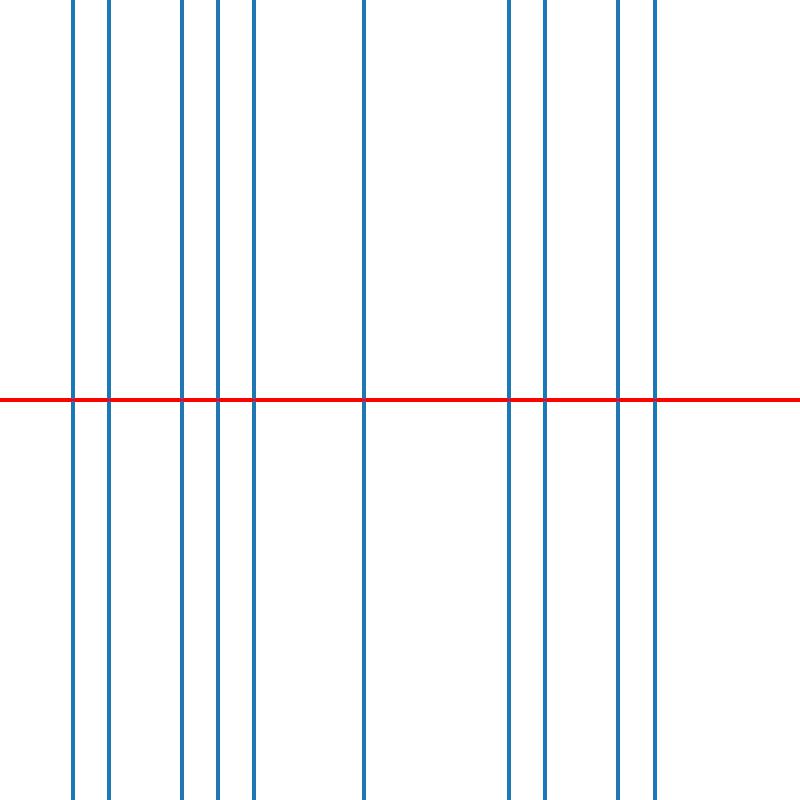root: (250, 396, 258, 404), (541, 396, 549, 404), (650, 396, 658, 404), (505, 396, 512, 404), (360, 396, 367, 404), (178, 396, 185, 404), (614, 396, 621, 404), (105, 396, 112, 404), (214, 396, 221, 404), (69, 396, 76, 404)
